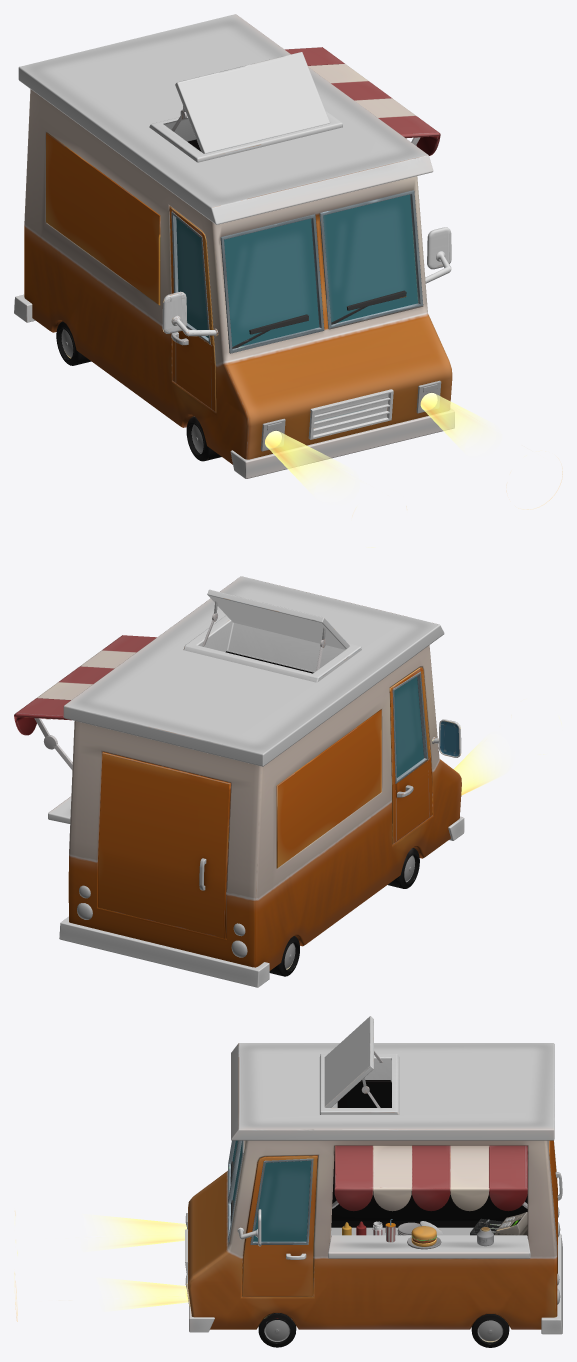
Rendered from stylized-food-truck.glb.
3 renders of one model, top to bottom at view 1: azimuth 30°, elevation 25°; view 2: azimuth 150°, elevation 25°; view 3: azimuth 270°, elevation 25°, orthographic. The views are drawn at different scales.
Parts seen in each view (by area): view 1: Scene_FInal_lambert1_0; view 2: Scene_FInal_lambert1_0; view 3: Scene_FInal_lambert1_0.
Boxes of the visible parts, box(x1,y1,x2,y2) form: Scene_FInal_lambert1_0: box(14, 14, 562, 547); Scene_FInal_lambert1_0: box(14, 576, 561, 987); Scene_FInal_lambert1_0: box(14, 1016, 562, 1347).
Size of the model in its own units: 0.1237 by 0.1199 by 0.2226.
1 material, 1 textured.
